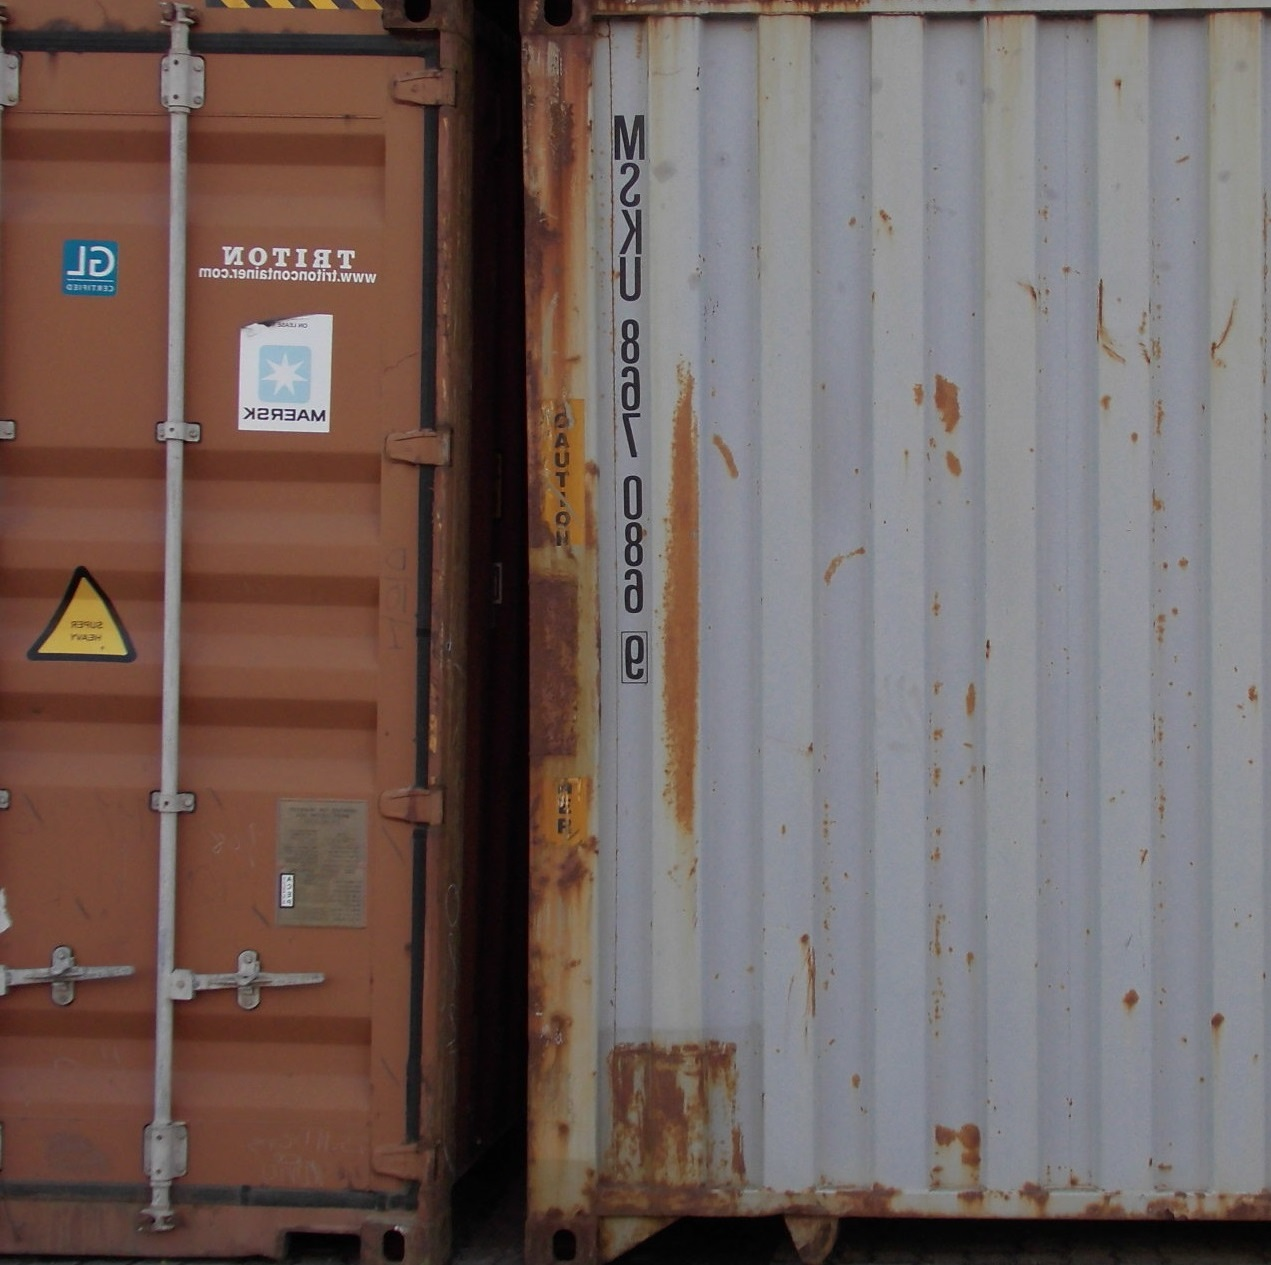container_door: (2, 1, 444, 1255)
container_no_door: (516, 6, 1257, 1255)
